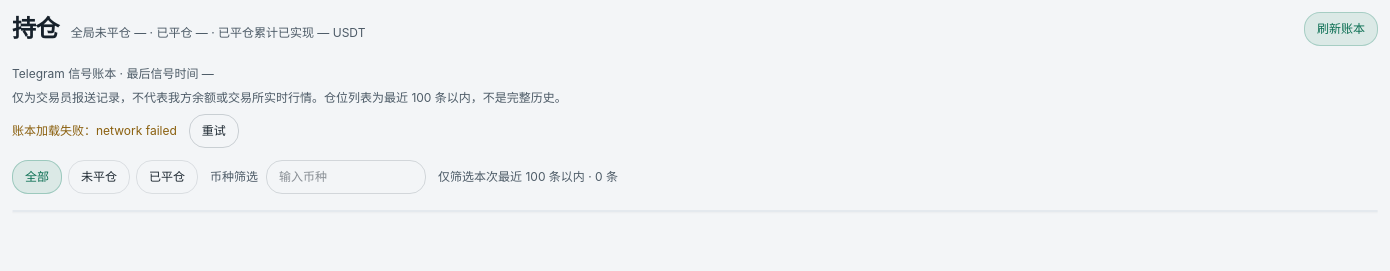
shared ledger › shows initial error with retry and accepts an empty snapshot
expect the text "账本加载失败：network failed" is shown: met, box top-left (12, 123), bottom-right (177, 139)
Click the button "重试". click: (214, 131)
box: top-left (189, 114), bottom-right (239, 148)
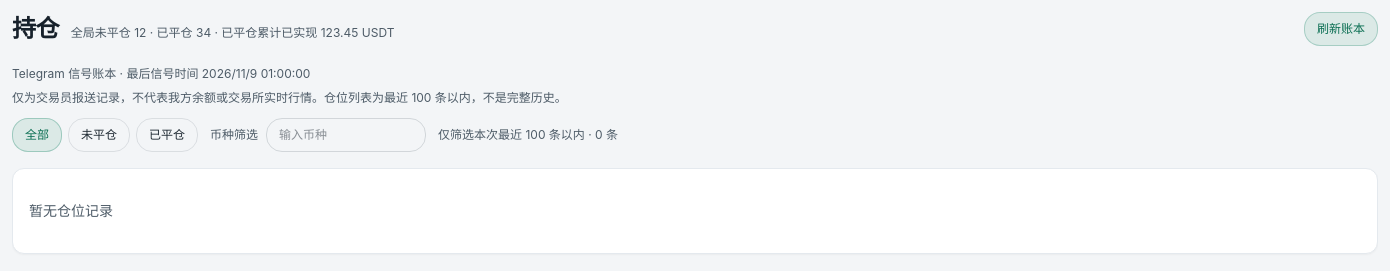
expect the text "暂无仓位记录" is shown: met, box top-left (29, 202), bottom-right (113, 219)
